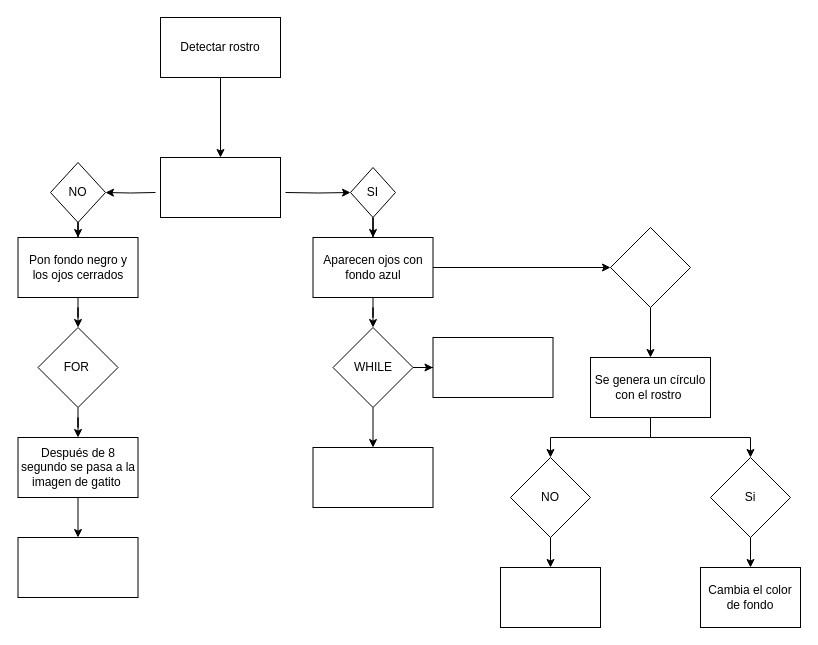
Some shapes in this 818 by 645 pixel diagram are drawn without their labels. Each missing label, with the centre of its shape:
Detectas rostro: point 220,187
Diga posa pa la foto: point 77,567
Gire el rostro a la derecha se cierra el ojo derecho: point 492,367
Gire el rostro a la izquierda se cierra el ojo izquierdo: point 372,477
IF: point 650,267
Se mantiene el color de fondo: point 550,597
